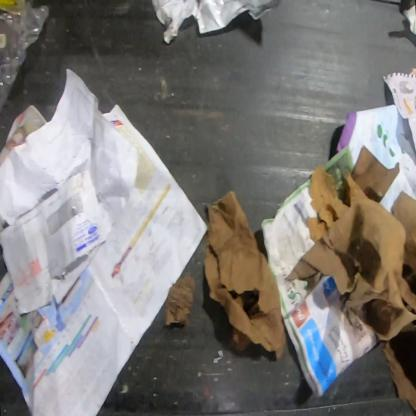cardboard: (286, 145, 416, 415), (204, 190, 287, 362), (166, 274, 196, 326)
rigid_plastic: (0, 0, 51, 115)
